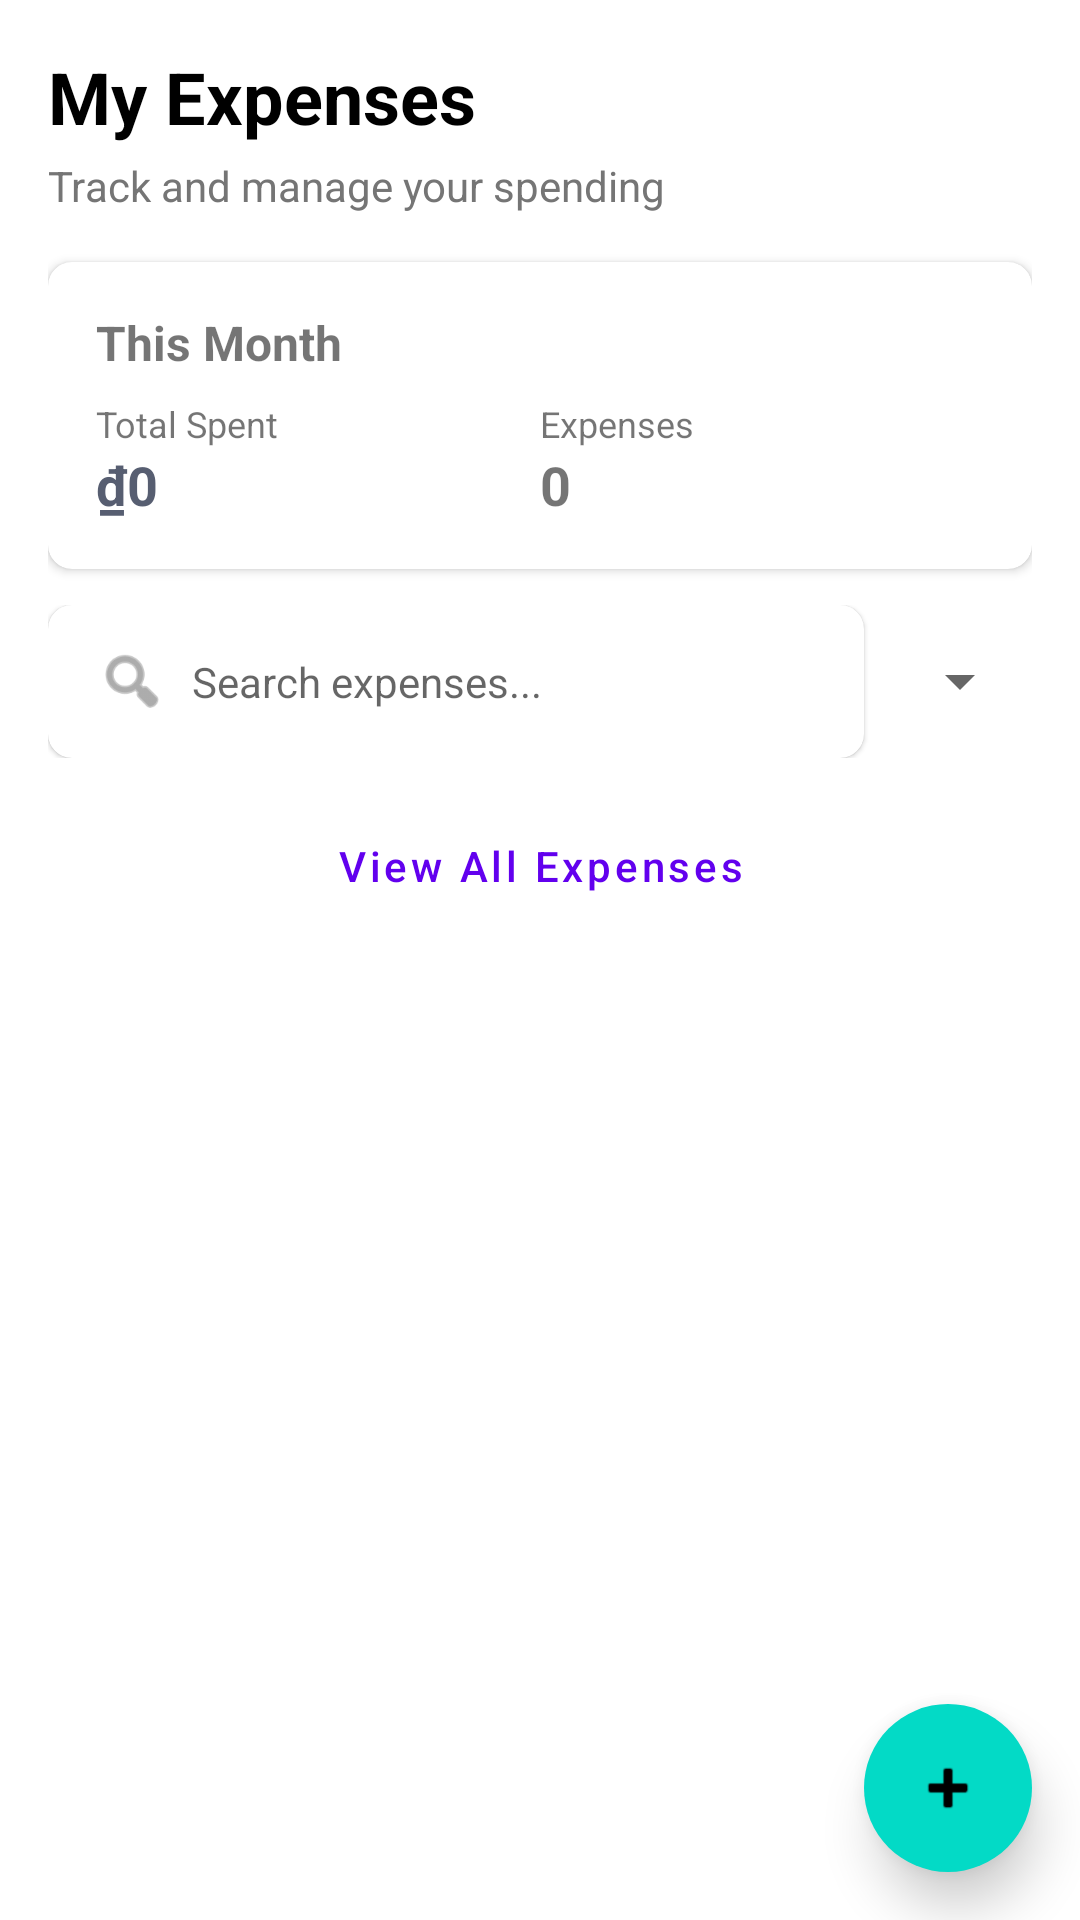

Icons on this 1080x1920 Android screen, each with the point to tap as [x,y]:
Add Expense: [948,1788]
